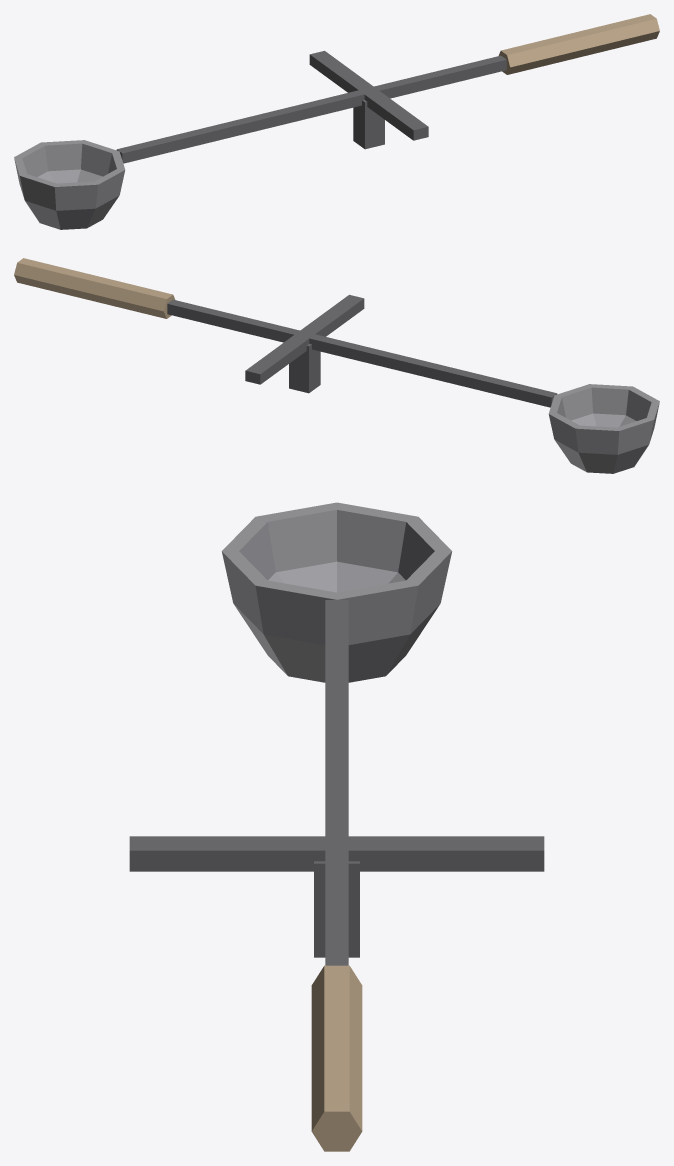
File: prop-ladle-pour-blank.fbx
The picture shows the model from 3 angles, top to bottom: view 1: azimuth 30°, elevation 25°; view 2: azimuth 150°, elevation 25°; view 3: azimuth 270°, elevation 25°; orthographic projection. The views are drawn at different scales.
Visible parts, largest first — view 1: prop-ladle-pour-blank; view 2: prop-ladle-pour-blank; view 3: prop-ladle-pour-blank.
Boxes of the visible parts, x1,y1,x2,y2 form: prop-ladle-pour-blank: (14,14,659,229); prop-ladle-pour-blank: (14,258,659,473); prop-ladle-pour-blank: (129,502,544,1151).
Bounding box in the file's own units: 127 × 10.91 × 36.
